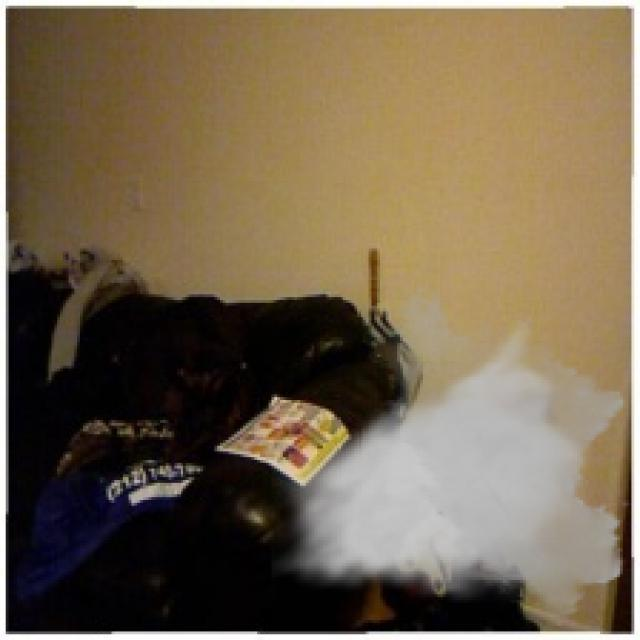Smoke: (272, 282, 634, 628)
